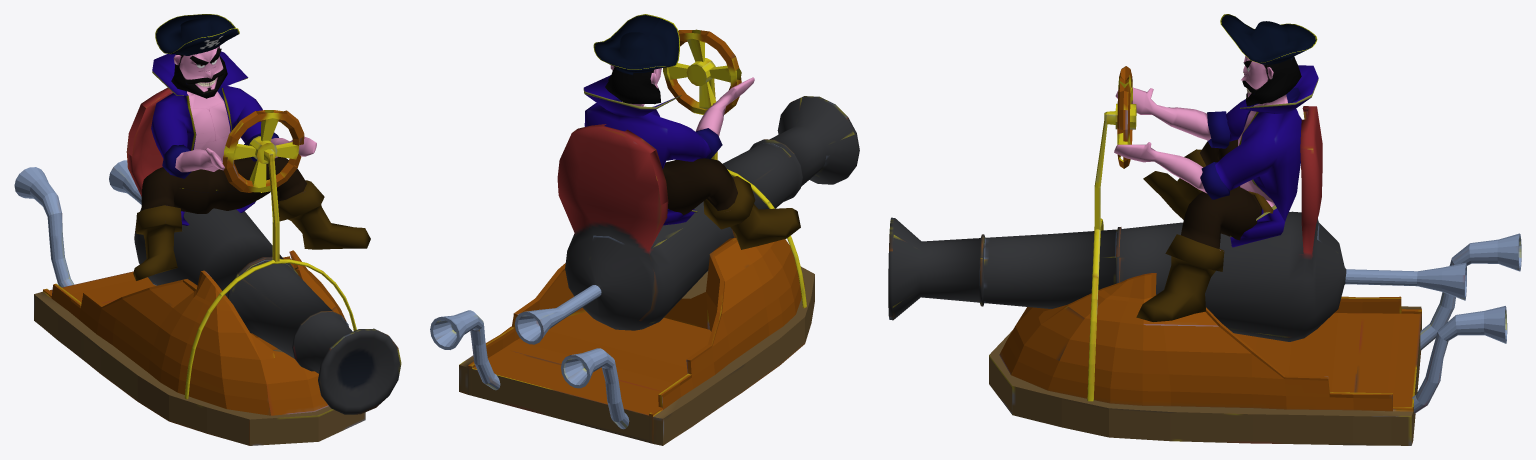
File: pirataGiroDER_000271.obj
The picture shows the model from 3 angles, left to right: view 1: azimuth 30°, elevation 25°; view 2: azimuth 150°, elevation 25°; view 3: azimuth 270°, elevation 25°; orthographic projection. The views are drawn at different scales.
Visible parts, largest first — view 1: carro_pirata, Pirata_PirataH; view 2: carro_pirata, Pirata_PirataH; view 3: carro_pirata, Pirata_PirataH.
Part boxes in pixels (bbox=[...]): carro_pirata: bbox=[14, 87, 401, 445]; Pirata_PirataH: bbox=[133, 14, 370, 280]; carro_pirata: bbox=[430, 29, 859, 445]; Pirata_PirataH: bbox=[583, 14, 800, 249]; carro_pirata: bbox=[888, 66, 1521, 445]; Pirata_PirataH: bbox=[1114, 14, 1318, 321].
Bounding box in the file's own units: 5.66 × 7.72 × 12.1.
Materials: 2 (2 with a texture image).
